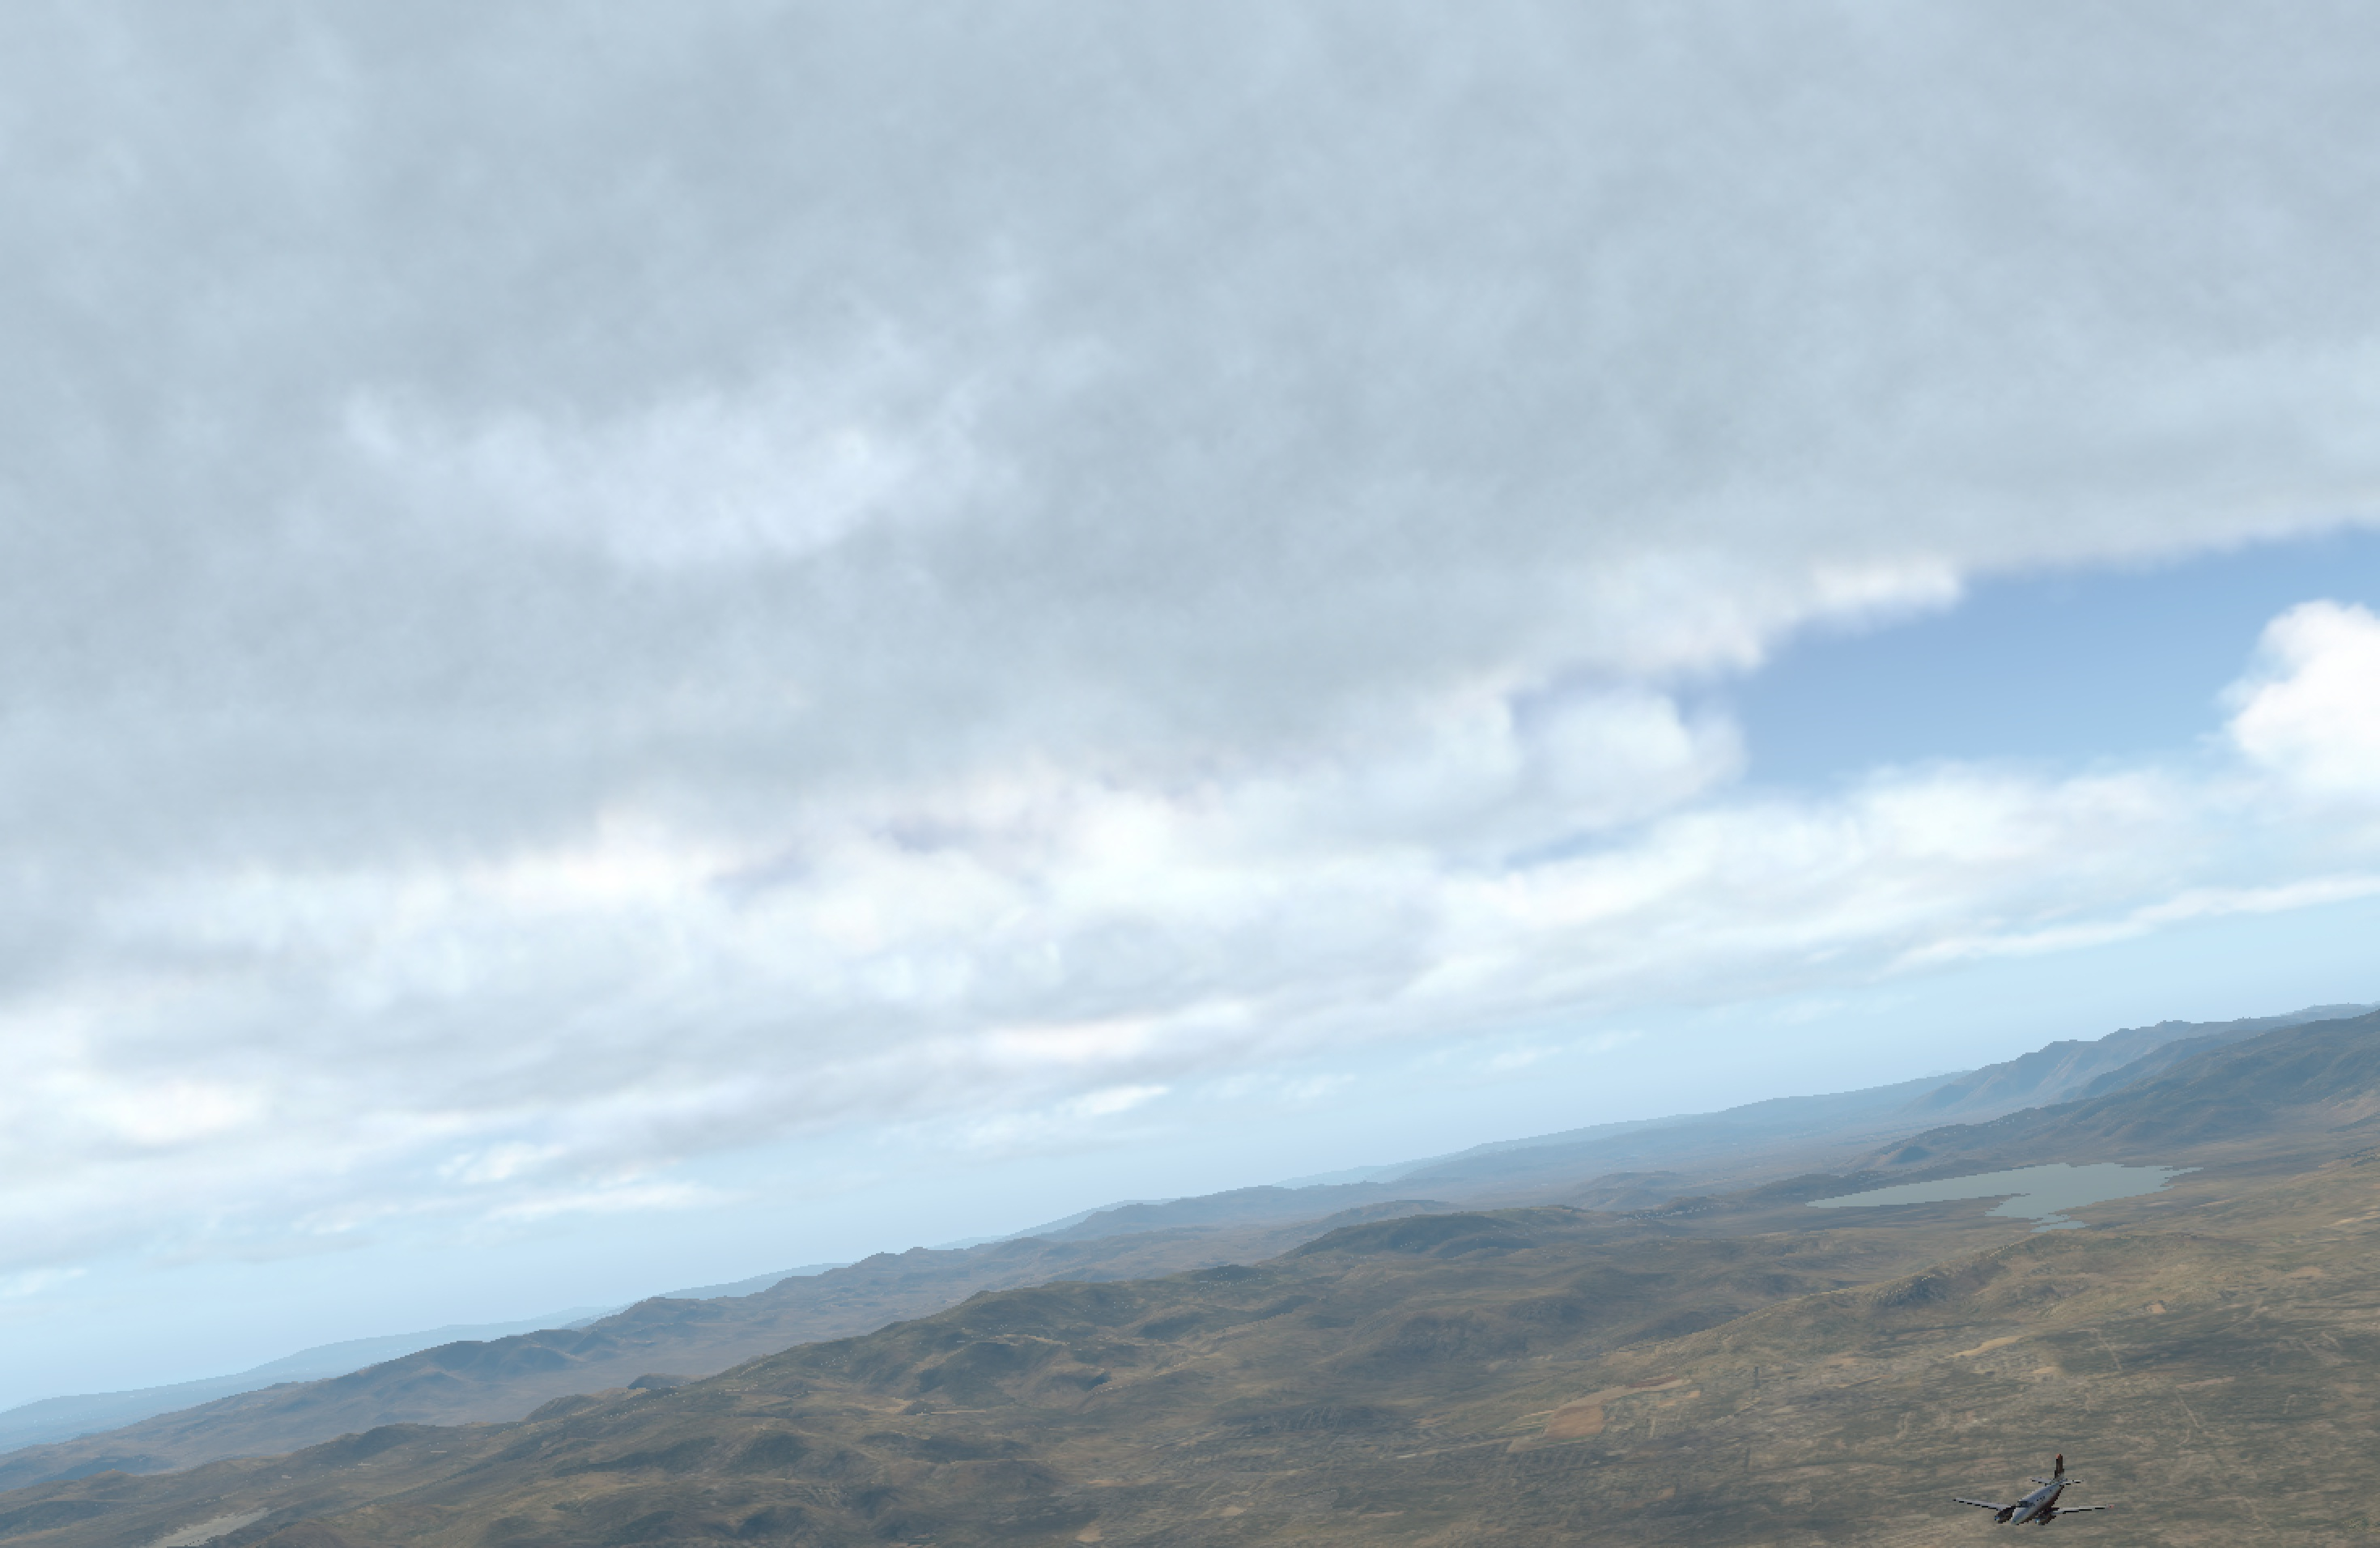aircraft: (1955, 1486, 2109, 1545)
